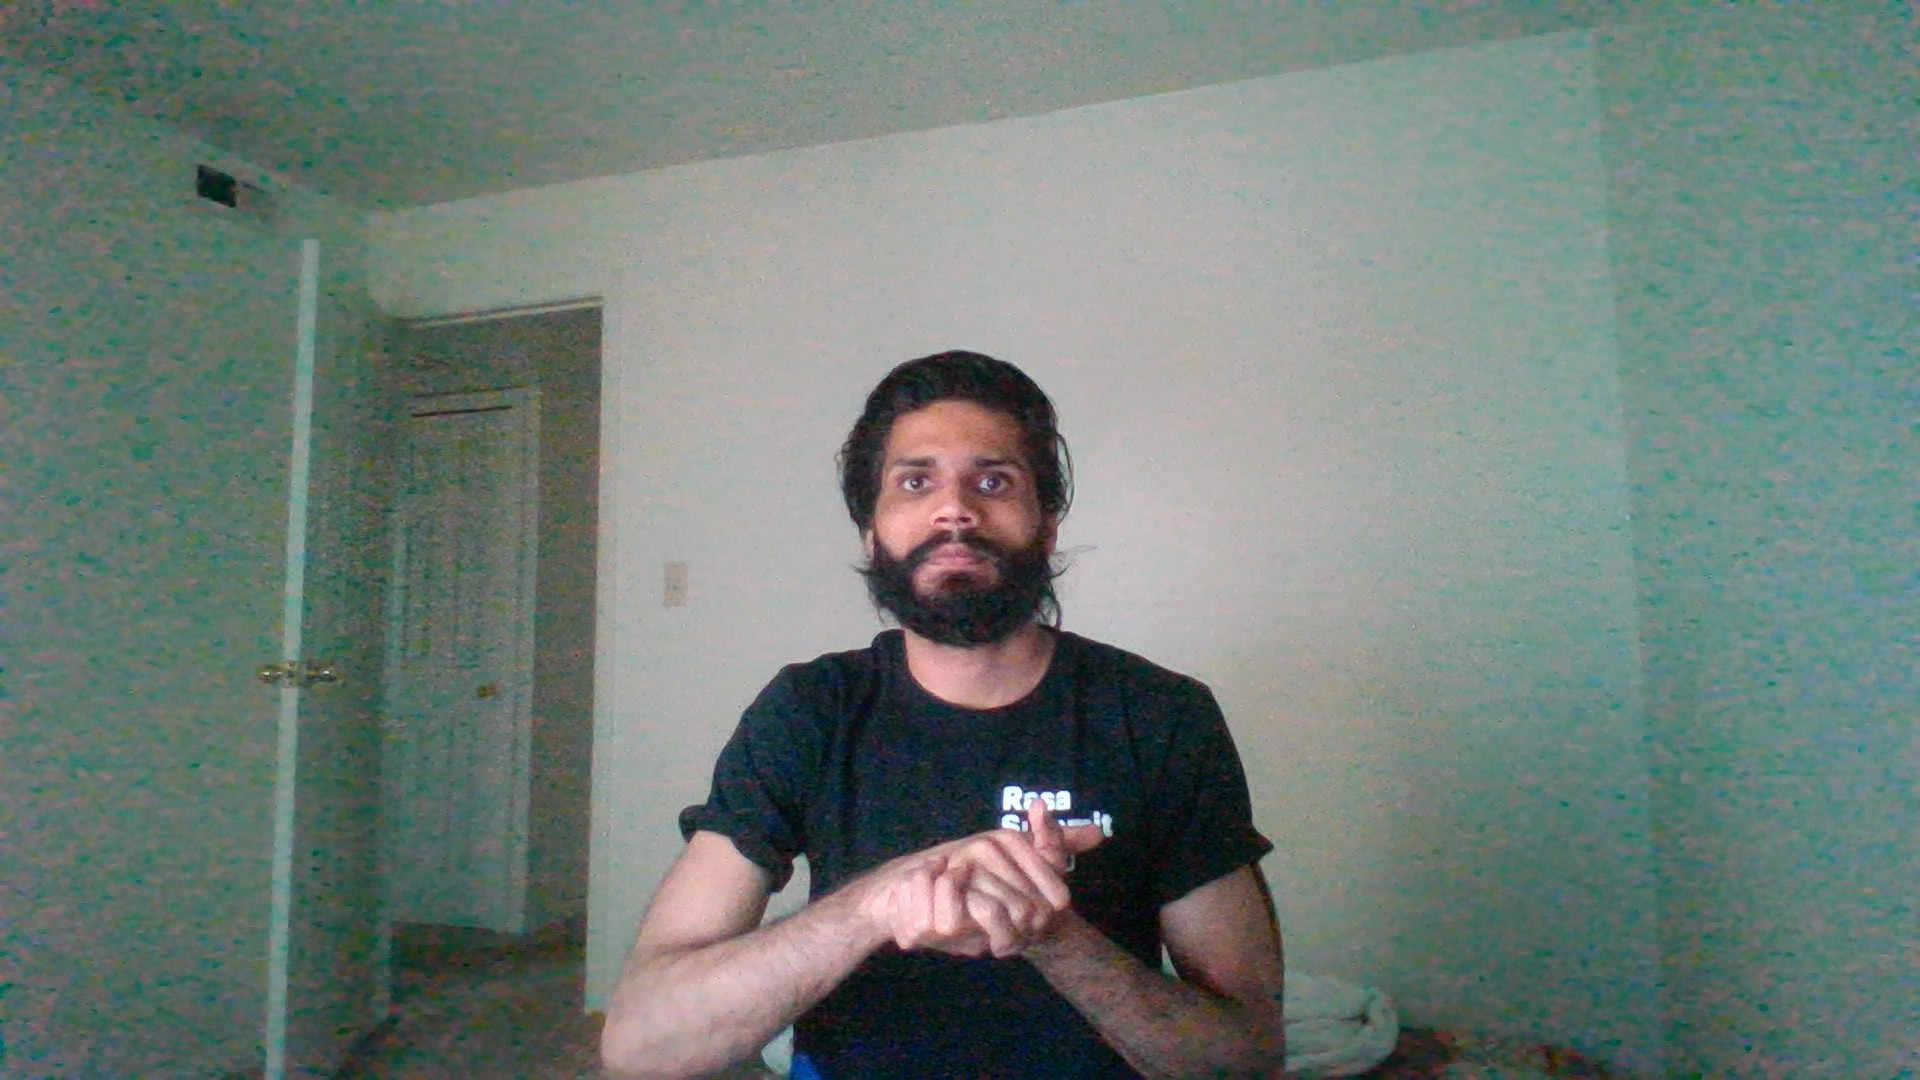Marriage: (829, 789, 1135, 997)
